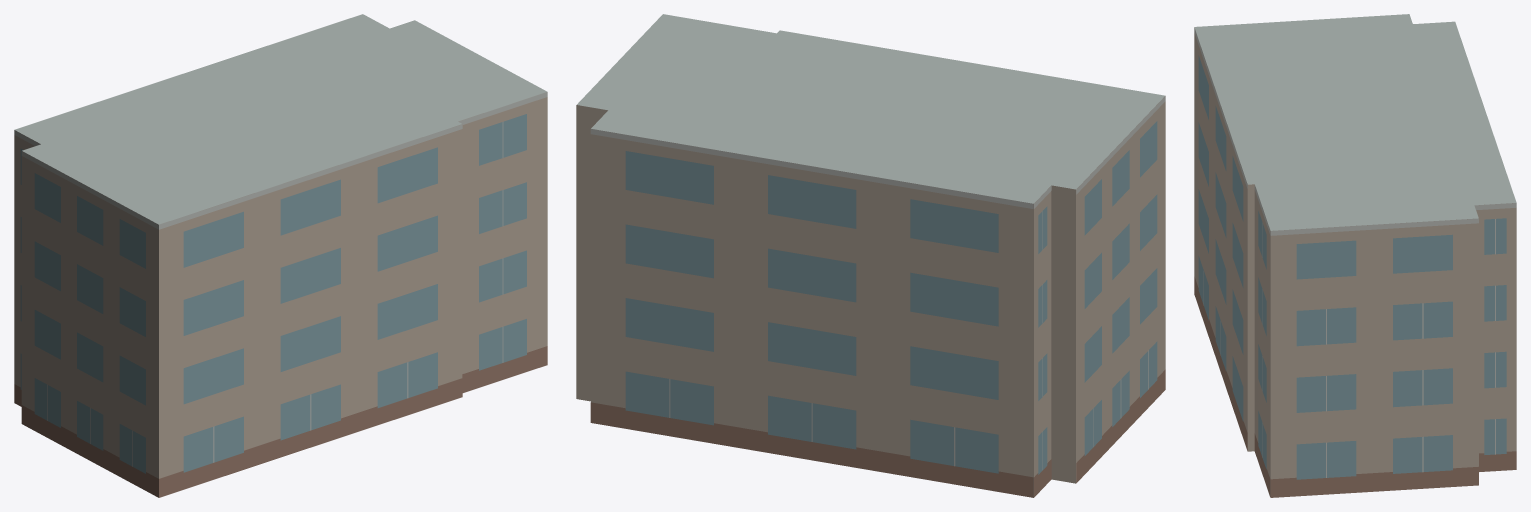
File: survey-upis-32909655.glb
3 views of the same model, side by side, from view 1: azimuth 30°, elevation 25°; view 2: azimuth 150°, elevation 25°; view 3: azimuth 270°, elevation 25° (orthographic). The views are drawn at different scales.
Visible parts, largest first — view 1: survey-upis-32909655.tmp; view 2: survey-upis-32909655.tmp; view 3: survey-upis-32909655.tmp.
Boxes of the visible parts, x1=… form: survey-upis-32909655.tmp: x1=14, y1=14, x2=547, y2=497; survey-upis-32909655.tmp: x1=576, y1=14, x2=1165, y2=497; survey-upis-32909655.tmp: x1=1194, y1=14, x2=1516, y2=497.
Bounding box in the file's own units: 23.01 × 13.2 × 14.46.
